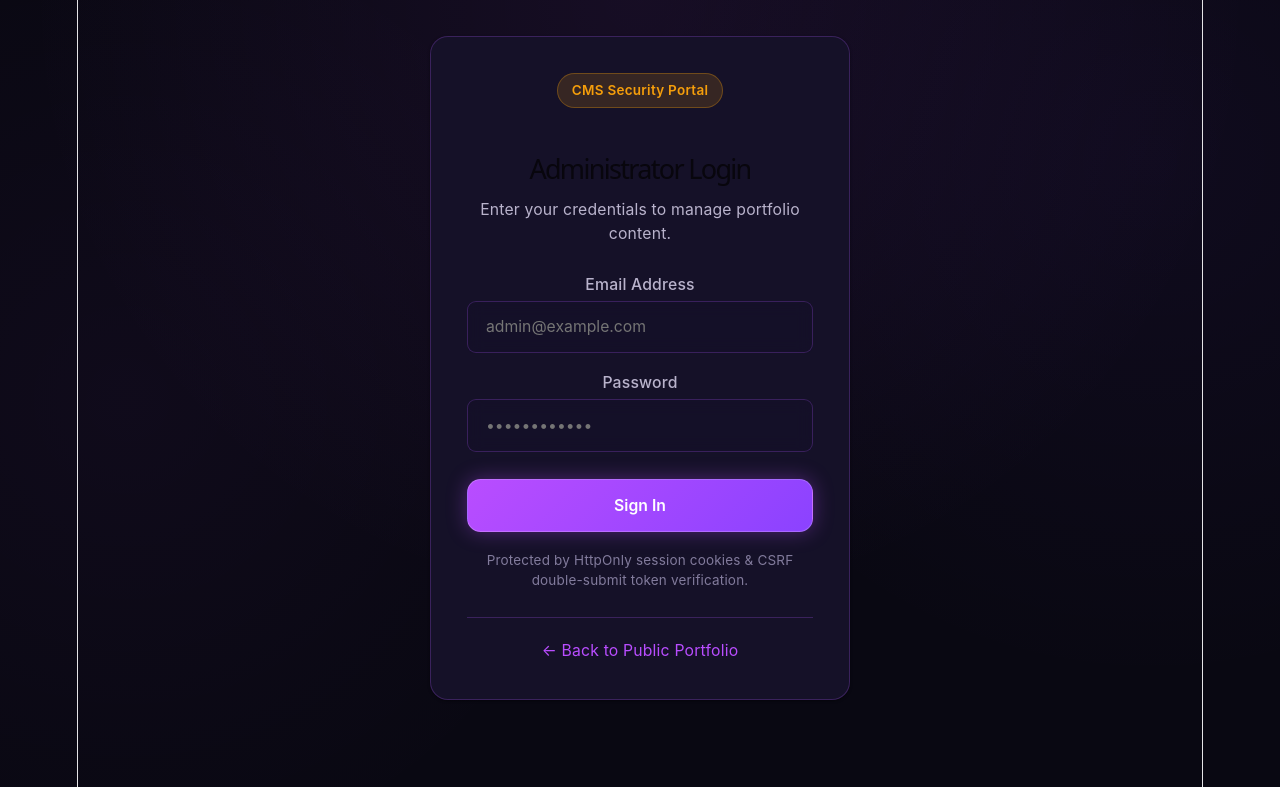
Test: AuthContext & ProtectedRoute Integration Suite › 3. Login flow: submitting valid credentials logs in and grants access to dashboard
The image size is (1280, 787).
Type "tanish@dev.io" into the field labelled "Email Address".
click(640, 327); type("tanish@dev.io")  # box [467, 301, 813, 353]
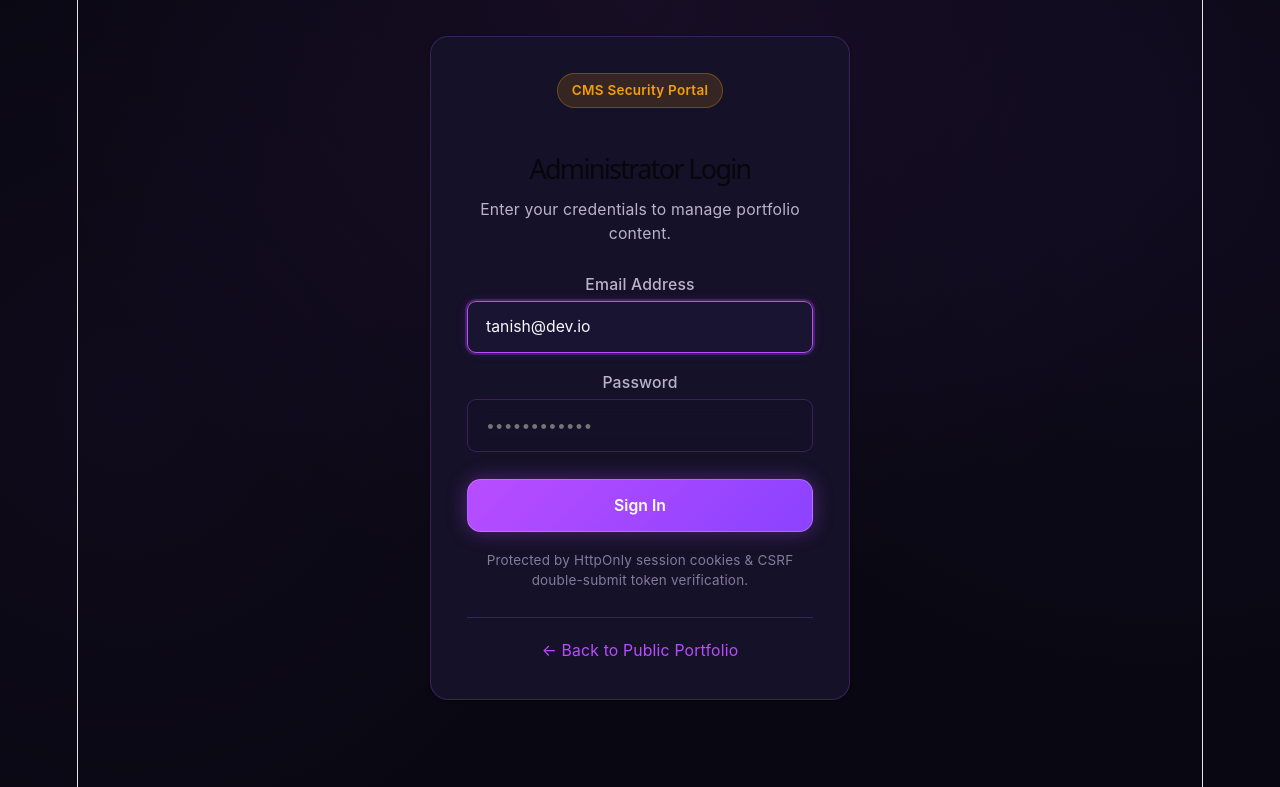
Type "SecurePass123!" into the password field labelled "Password".
click(640, 426); type("SecurePass123!")  # box [467, 400, 813, 452]
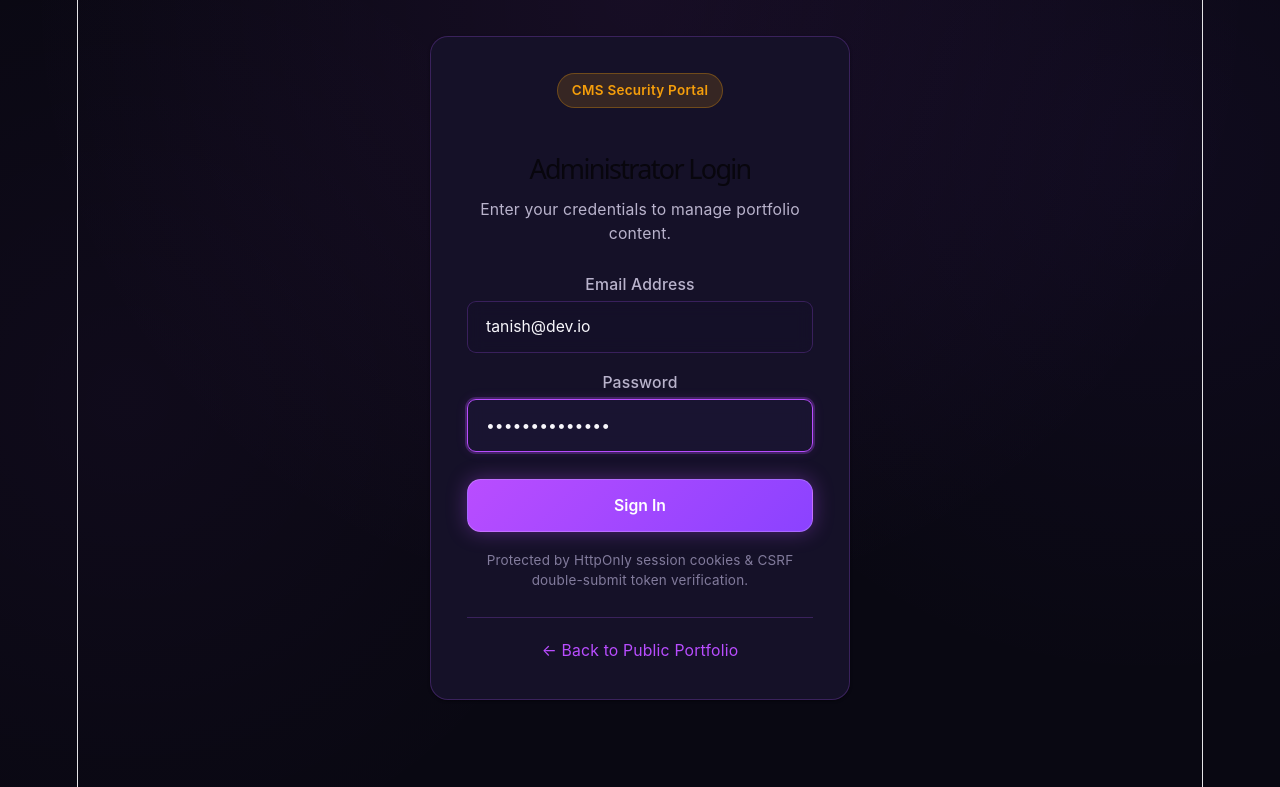
Click the button "Sign In".
click(640, 505)  # box [467, 479, 813, 532]
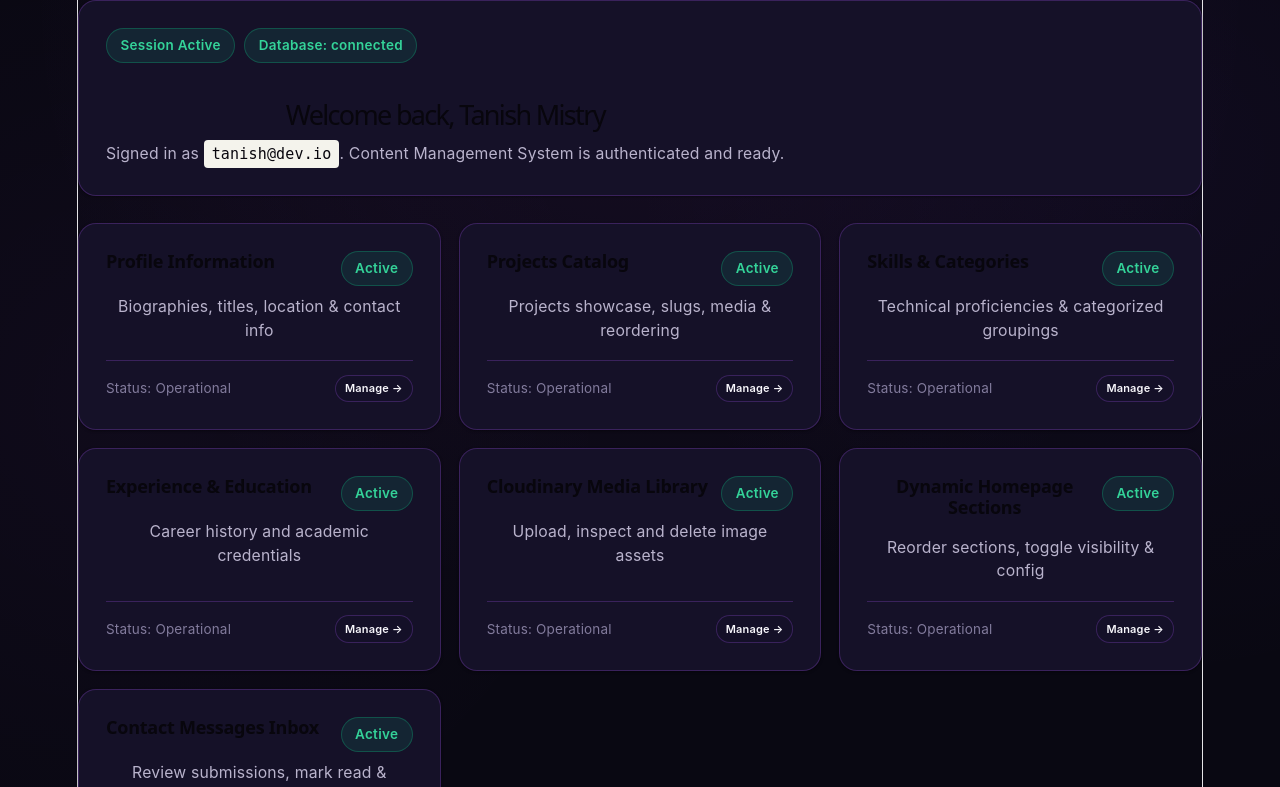
Expected: the heading "Welcome back, Tanish Mistry" is shown, [286, 96, 605, 133]
